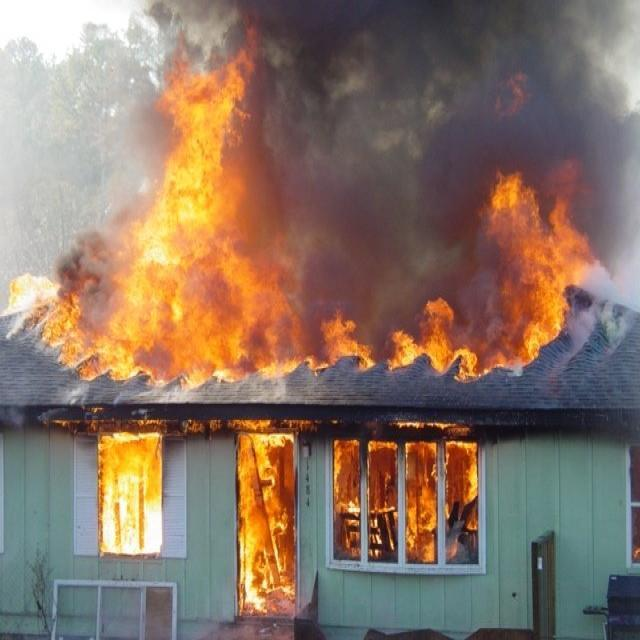Fire: (28, 9, 298, 383), (306, 157, 606, 377), (332, 418, 485, 569), (232, 411, 300, 622), (91, 419, 165, 558)
Smoke: (215, 0, 637, 375)
